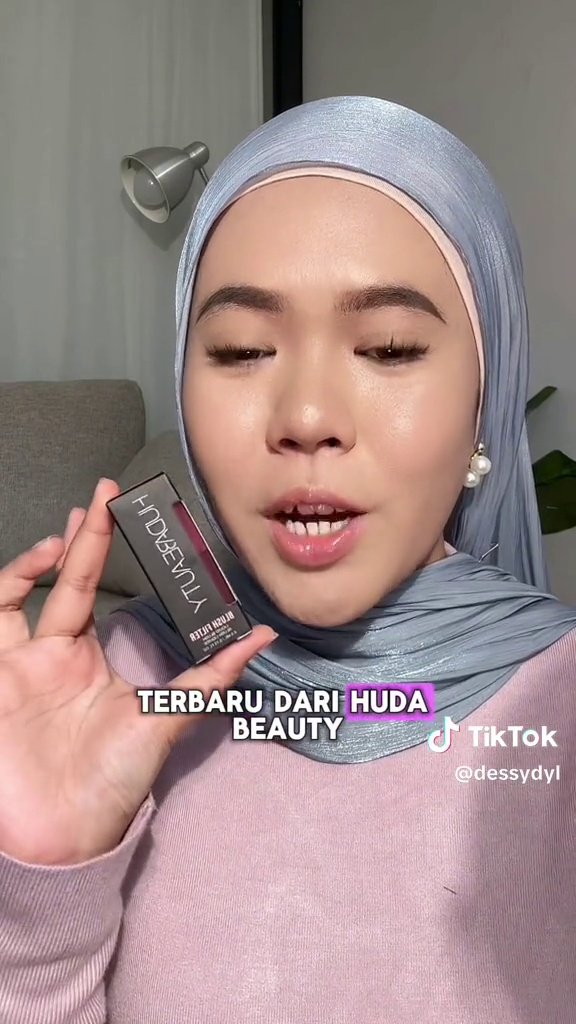train' :'yolo_data/train/images',: (91, 466, 270, 672)
